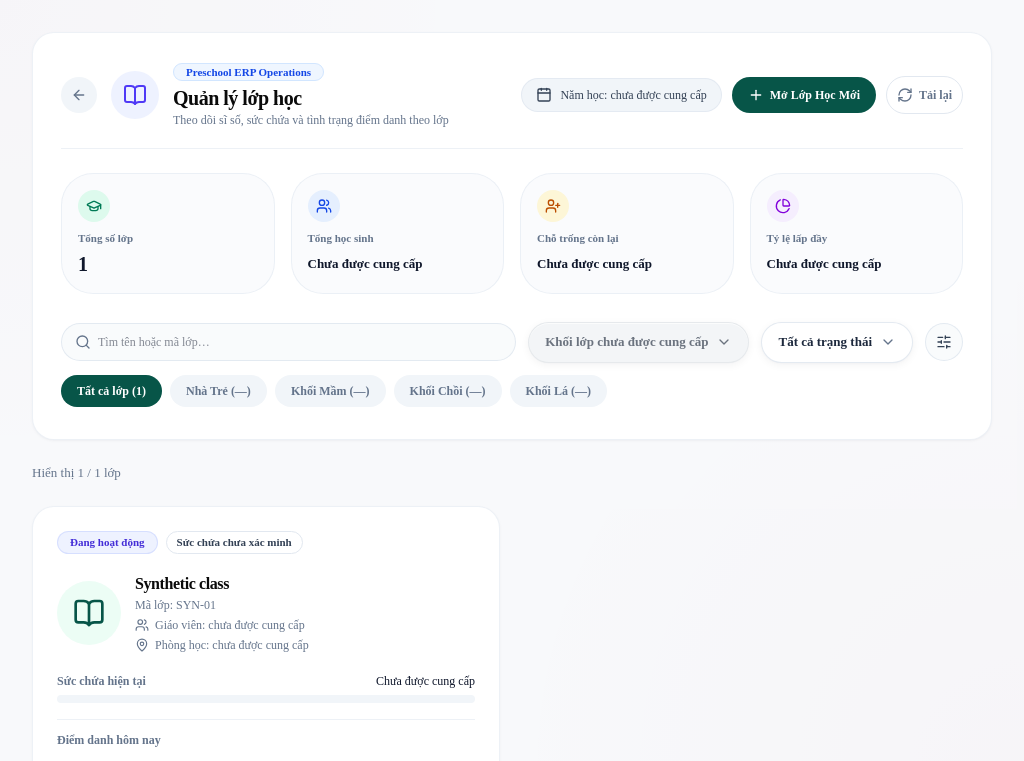
Test: clears previously loaded rows immediately on reload and keeps them cleared on failure
The width and height of the screenshot is (1024, 761).
Check: the heading "Synthetic class" is shown, box left=135, top=575, right=229, bottom=592
Step 1. Click the button "Tải lại" → point(924, 94), box left=886, top=76, right=963, bottom=114
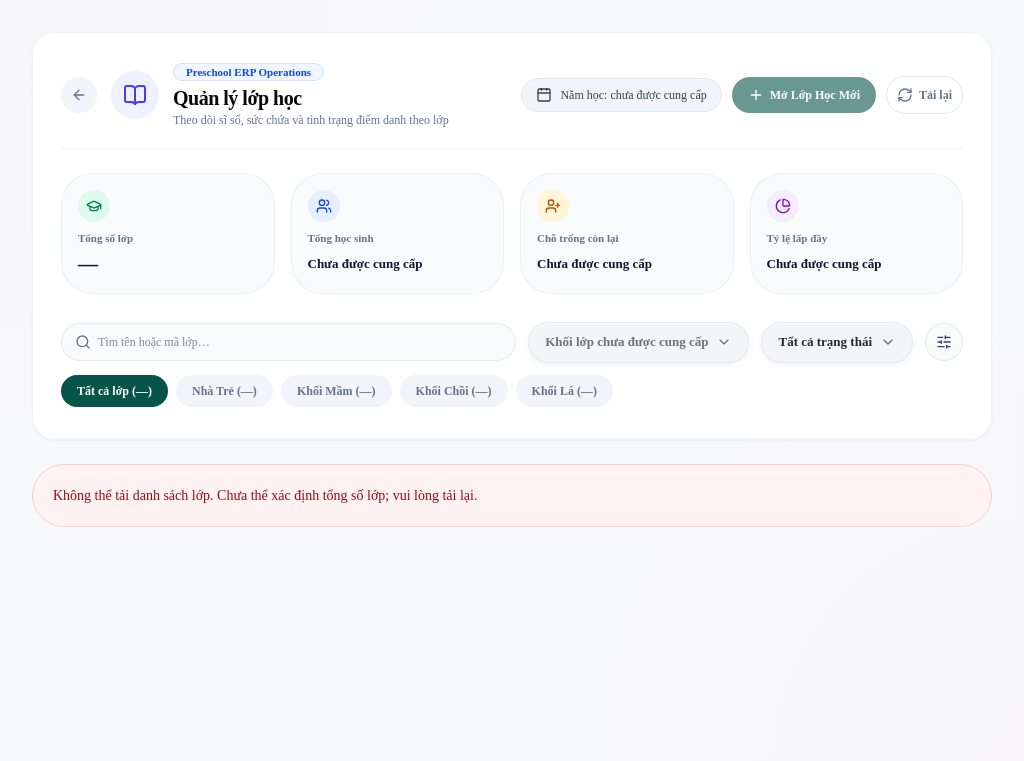
Check: the heading "Synthetic class" is gone
Check: the message "Không thể tải danh sách lớp. Chưa thể xác định tổng số lớp; vui lòng tải lại." is shown, box left=32, top=464, right=992, bottom=527
Check: the text "1" is gone
Step 2. Click the button "Tải lại" → point(924, 94), box left=886, top=76, right=963, bottom=114
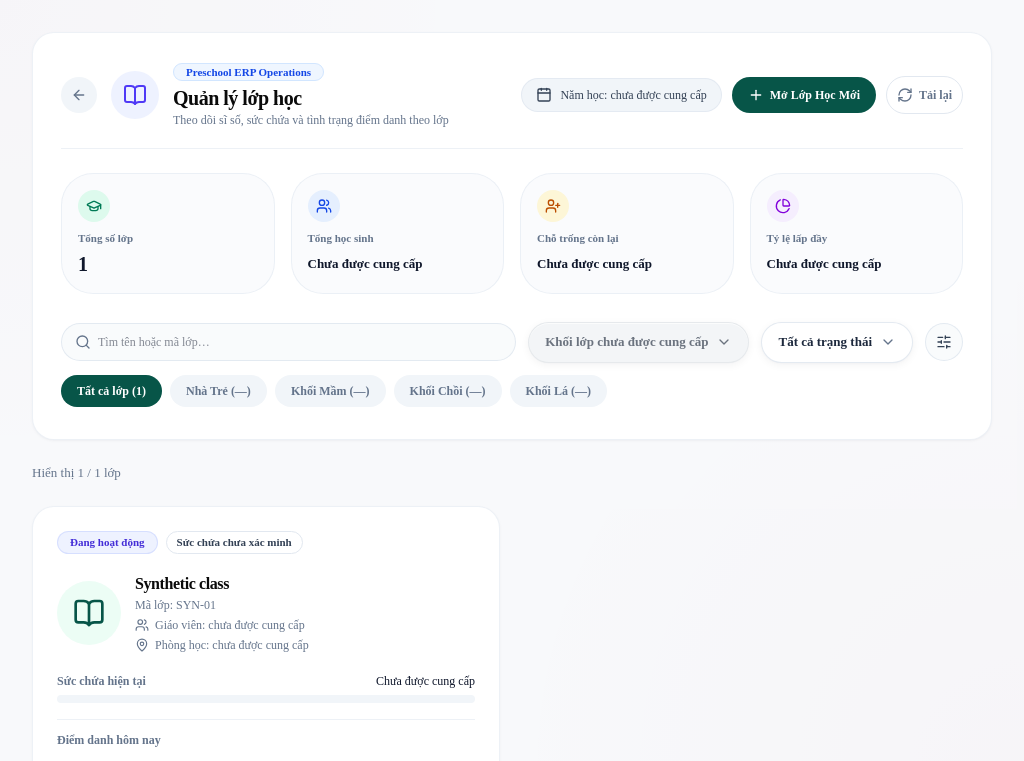
Check: the heading "Synthetic class" is shown, box left=135, top=575, right=229, bottom=592
